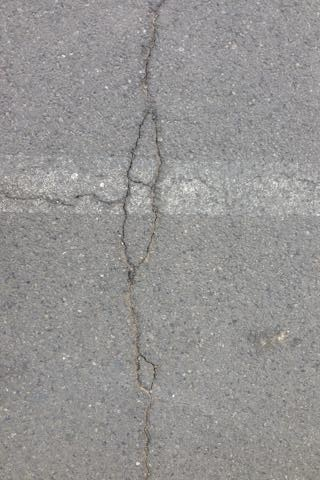A: (118, 1, 167, 480), (2, 190, 128, 208)
